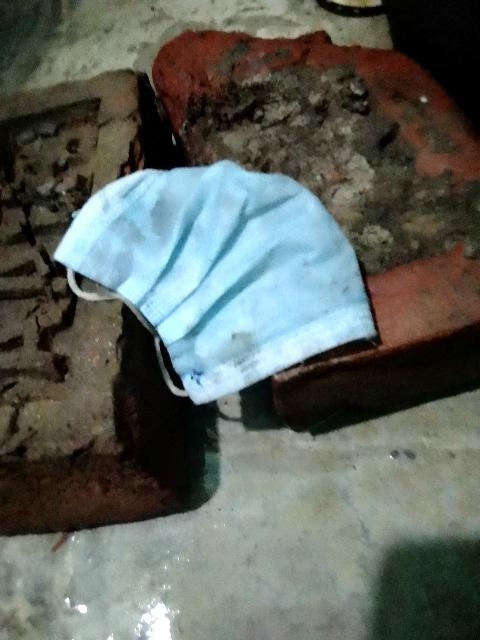mask: (50, 158, 372, 393)
